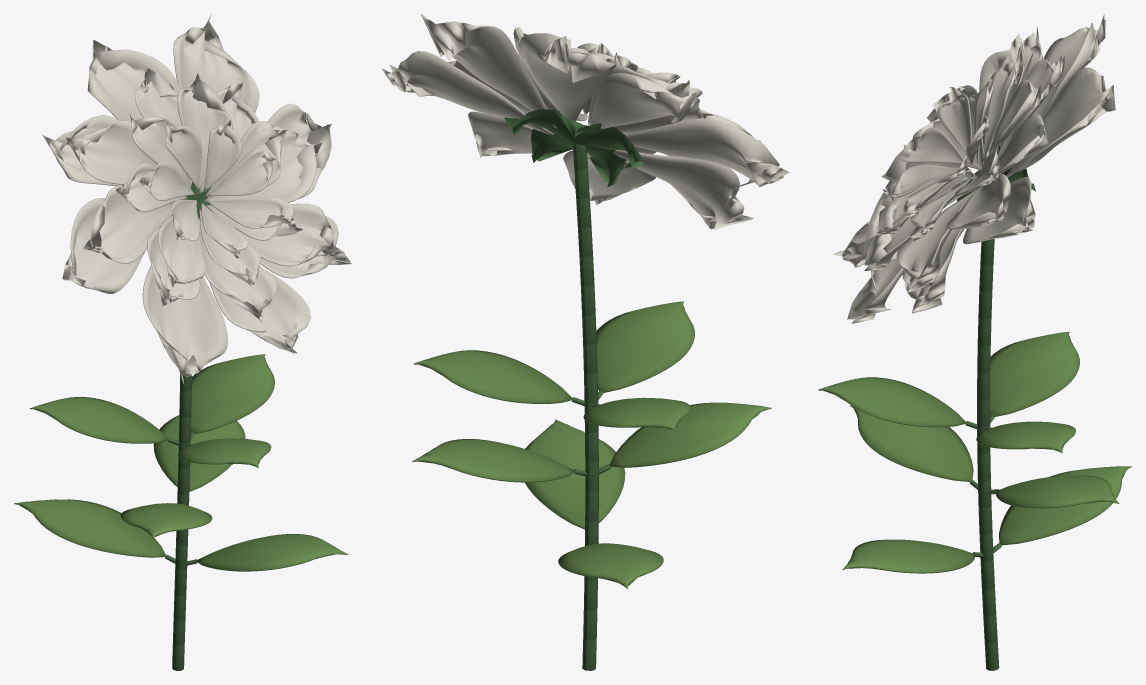
The model's file is gardenia-epic-v2.glb.
3 renders of one model, left to right at view 1: azimuth 30°, elevation 25°; view 2: azimuth 150°, elevation 25°; view 3: azimuth 270°, elevation 25°, orthographic. The views are drawn at different scales.
Visible parts, largest first — view 1: gardenia-epic-v2-petal, gardenia-epic-v2-leaf, gardenia-epic-v2-stem; view 2: gardenia-epic-v2-petal, gardenia-epic-v2-leaf, gardenia-epic-v2-stem; view 3: gardenia-epic-v2-petal, gardenia-epic-v2-leaf, gardenia-epic-v2-stem.
Boxes of the visible parts, x1,y1,x2,y2 form: gardenia-epic-v2-petal: (42, 14, 352, 383); gardenia-epic-v2-leaf: (14, 354, 348, 571); gardenia-epic-v2-stem: (165, 182, 211, 670); gardenia-epic-v2-petal: (381, 14, 789, 230); gardenia-epic-v2-leaf: (412, 301, 771, 589); gardenia-epic-v2-stem: (504, 109, 643, 670); gardenia-epic-v2-petal: (833, 14, 1115, 323); gardenia-epic-v2-leaf: (818, 331, 1131, 573); gardenia-epic-v2-stem: (957, 144, 1035, 670).
Bounding box in the file's own units: 1.05 × 1.93 × 0.8578.
